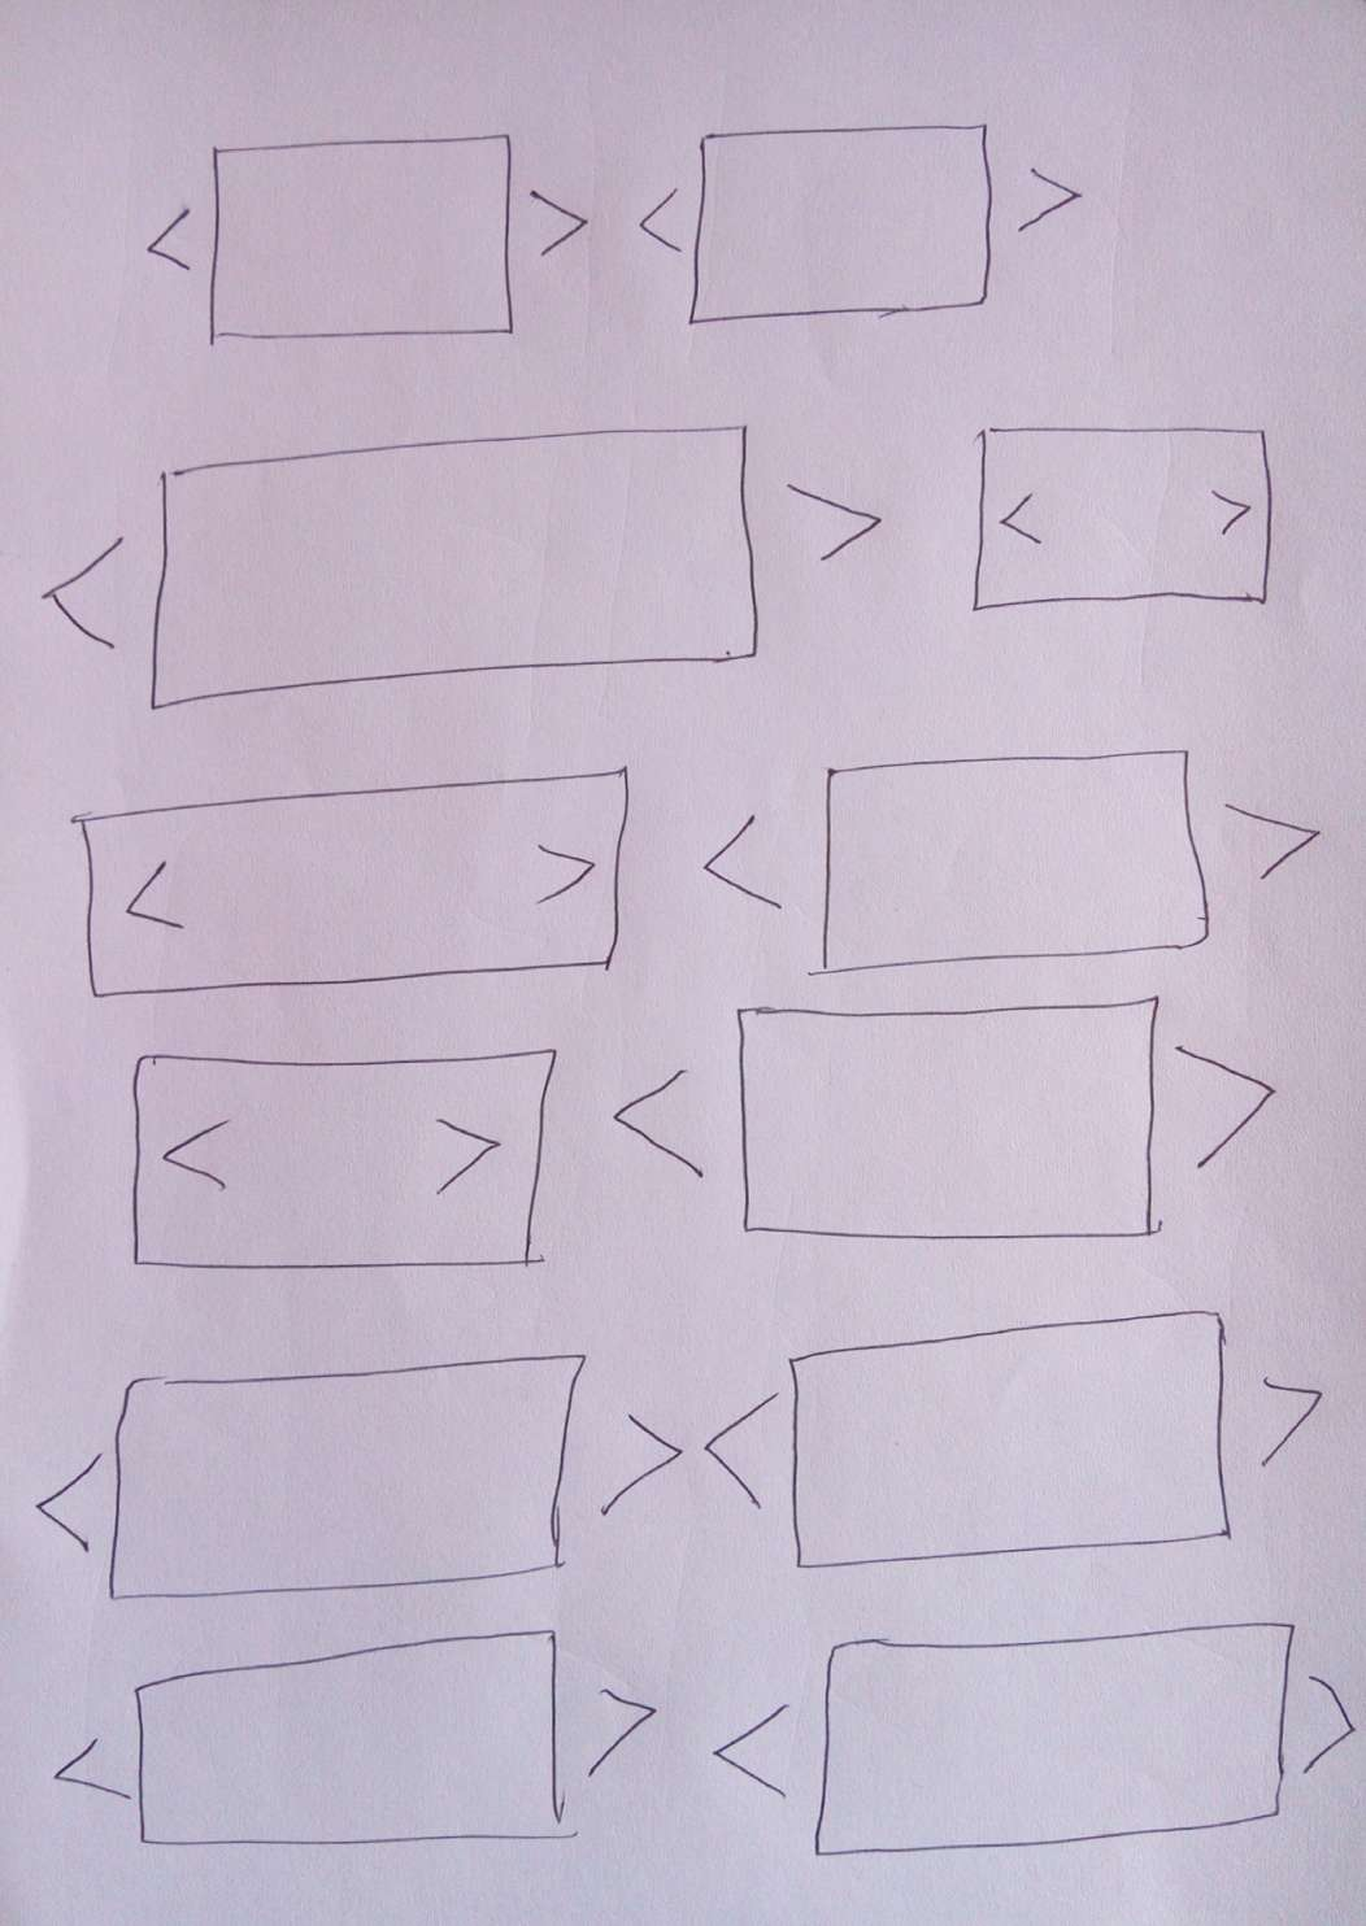Carousel: (38, 421, 888, 715), (30, 1345, 695, 1610), (695, 1307, 1328, 1580), (606, 995, 1280, 1250), (701, 1616, 1362, 1862), (695, 754, 1325, 980), (41, 1624, 665, 1851), (65, 760, 639, 1004), (133, 130, 599, 358), (121, 1042, 565, 1280), (633, 115, 1095, 333), (965, 418, 1280, 615)
